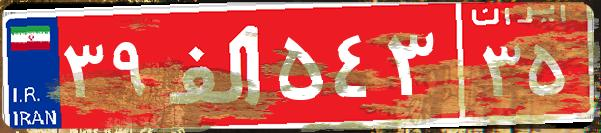3: (385, 28, 445, 110), (57, 26, 110, 107), (475, 38, 525, 113)
4: (330, 28, 385, 110)
5: (273, 28, 330, 110), (525, 38, 570, 115)
9: (110, 28, 158, 105)
الف: (158, 15, 273, 115)
